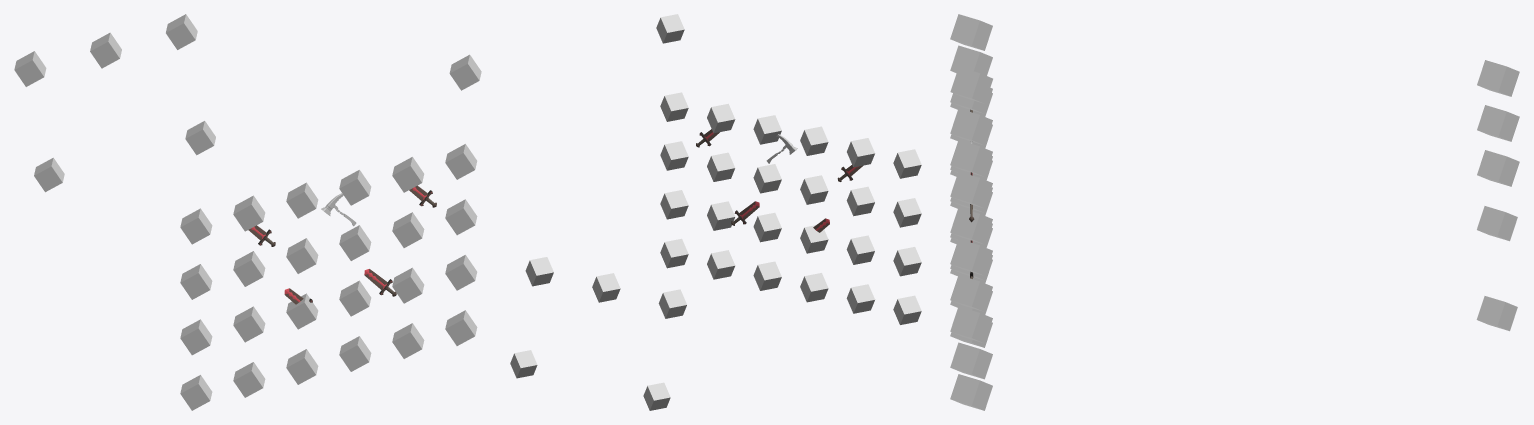
The model's file is UI_PauseCanvas.fbx.
3 renders of one model, left to right at view 1: azimuth 30°, elevation 25°; view 2: azimuth 150°, elevation 25°; view 3: azimuth 270°, elevation 25°, orthographic. The views are drawn at different scales.
Visible parts, largest first — view 1: 3D (×30); view 2: 3D (×30); view 3: 3D (×17).
Boxes of the visible parts, box(x1,y1,x2,y2) form: 3D (×30): box(14, 14, 481, 410); 3D (×30): box(510, 14, 921, 410); 3D (×17): box(950, 14, 1519, 410).
Bounding box in the file's own units: 637 × 569 × 856.
